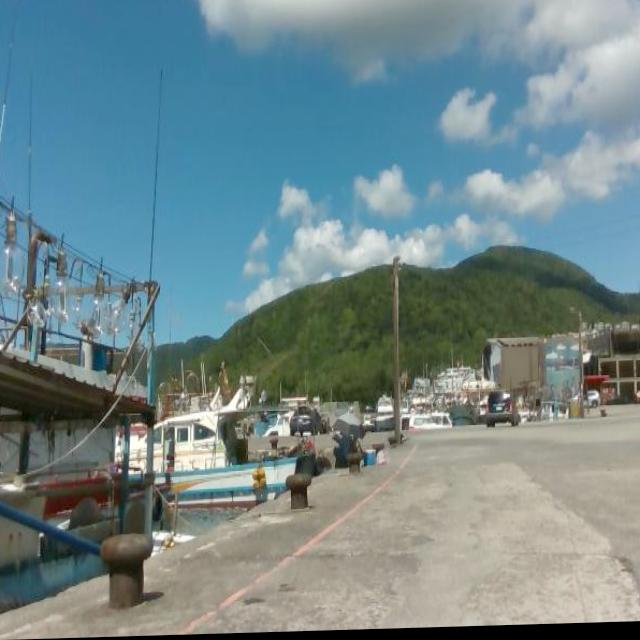pollute: (376, 449, 388, 469)
